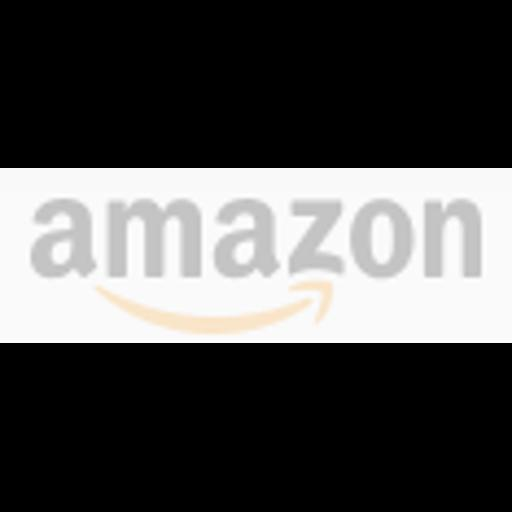Amazon: (0, 168, 512, 343)
